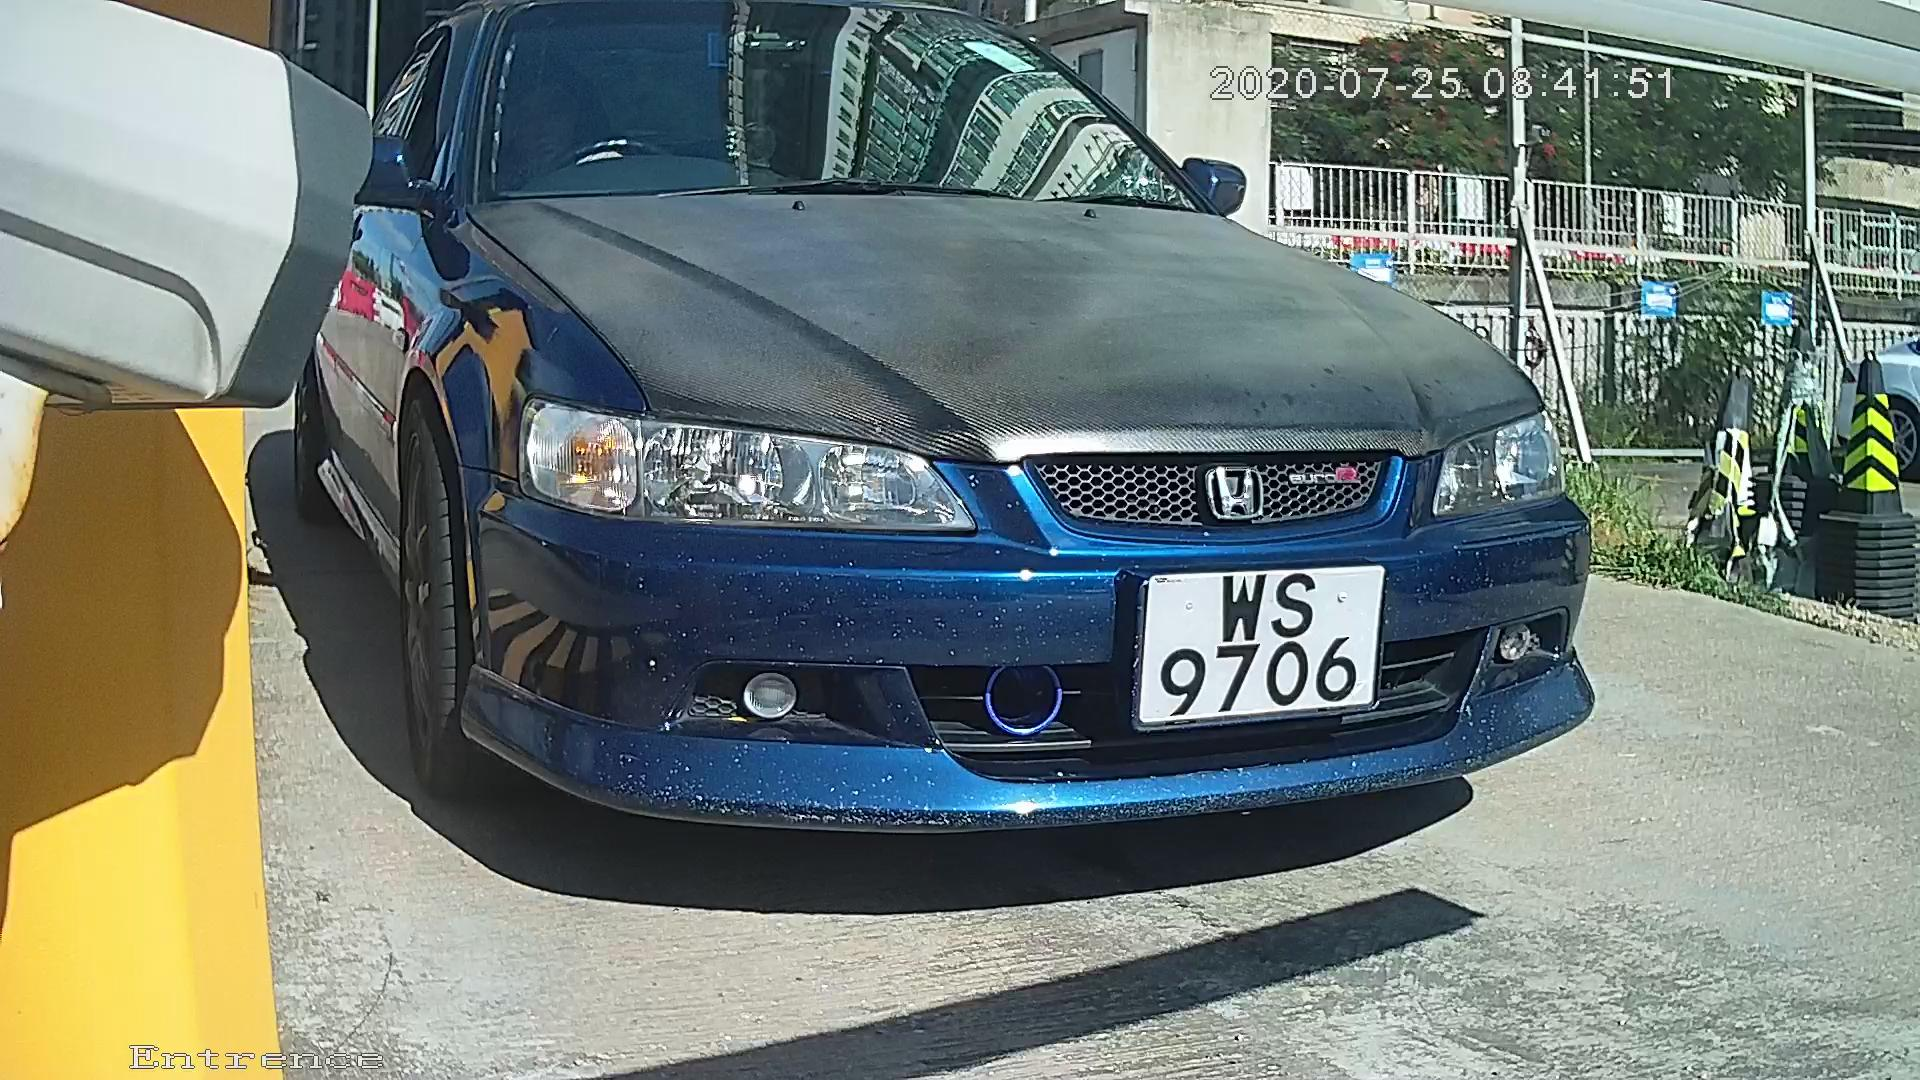Car: (146, 5, 1732, 960)
License Plate: (1115, 541, 1398, 748)
